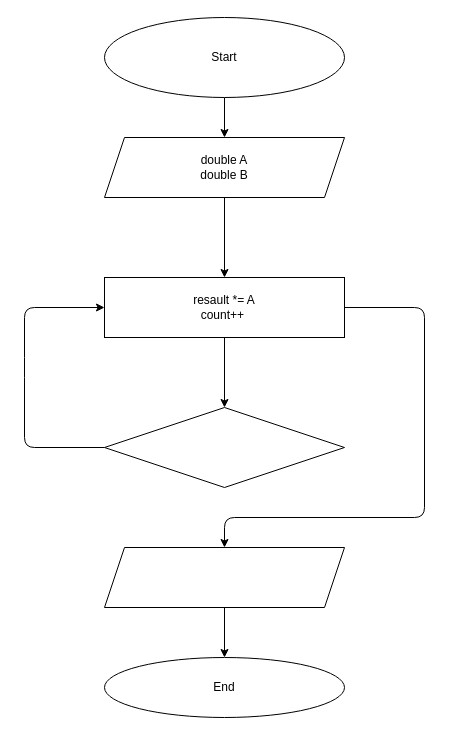
Image size: 450x735. Some labels were removed from this diagram. The box of each missing label's shape, as (x1, y1, x2, y2) in pixels:
count < B: (104, 406, 344, 488)
resault: (104, 546, 344, 608)
